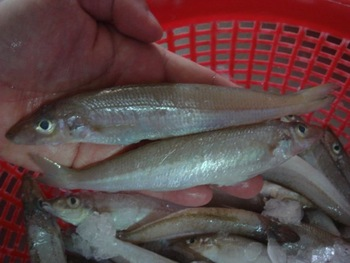kiss: (35, 120, 325, 202), (8, 81, 342, 144)
